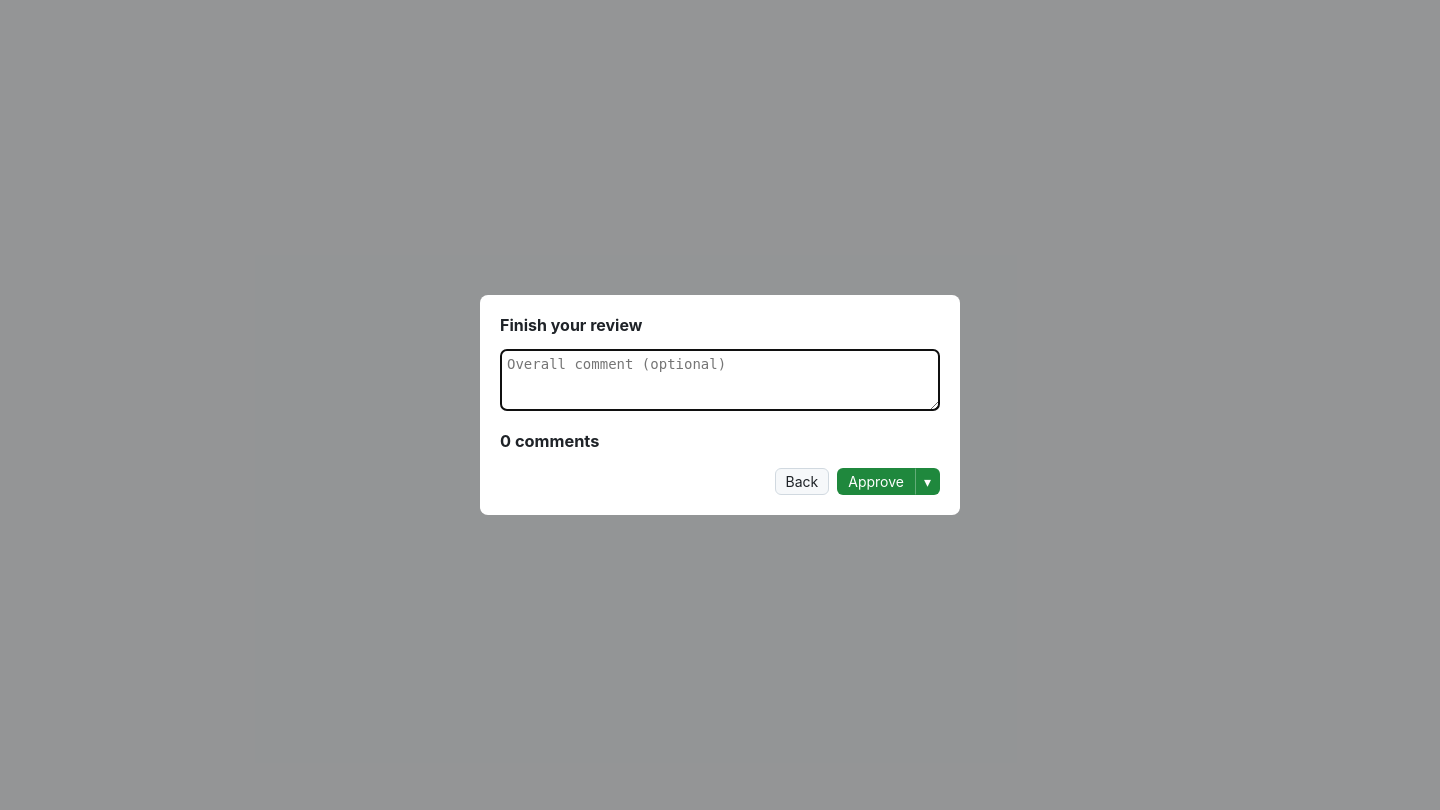
Test: failed submit shows error, re-enables, and keeps the modal open
Click the button "Approve" at (876, 481), box [837,468,915,494]
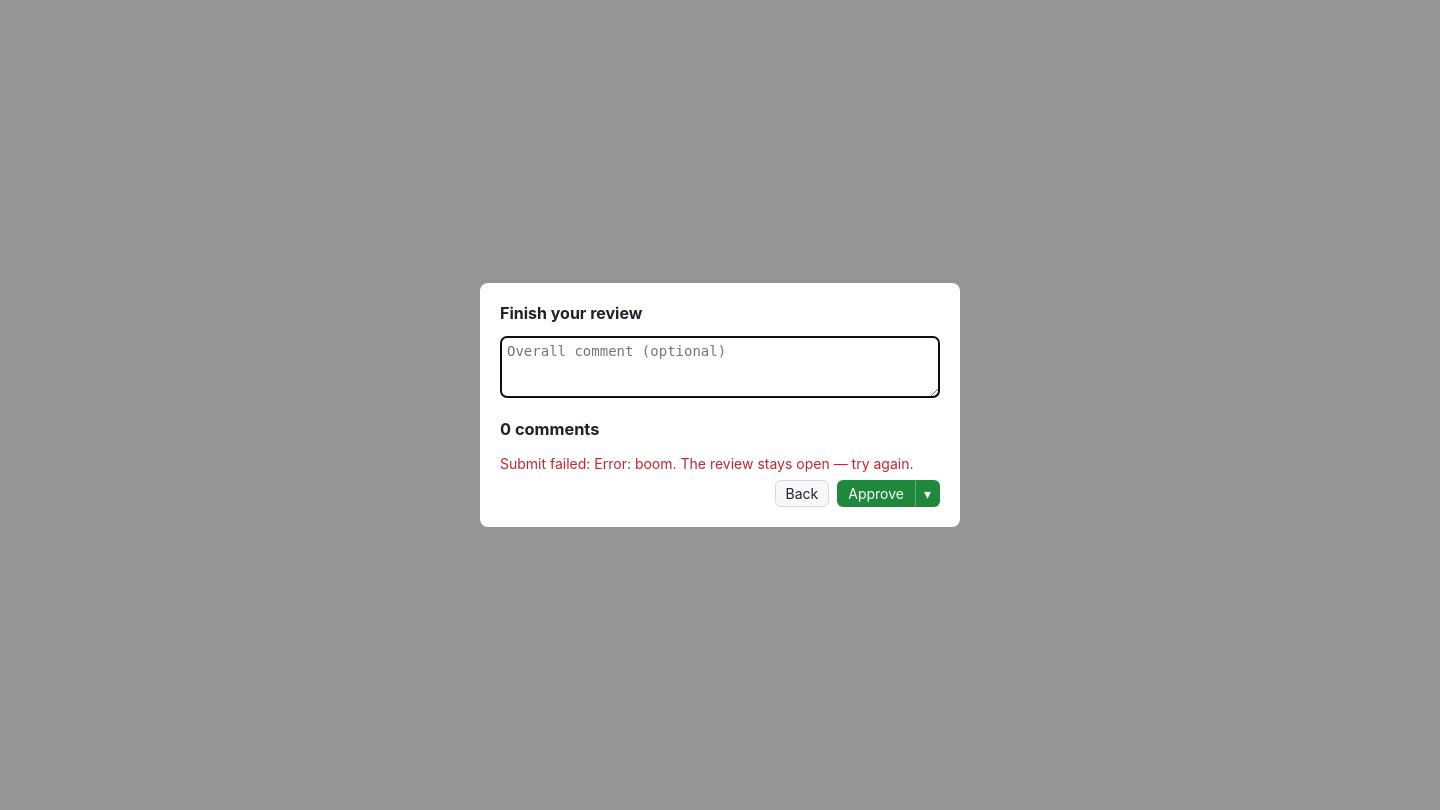
Expected: the button "Approve" is enabled, [837,480,915,507]
Result: the text "Submit failed:" is shown at [500,455,594,472]
